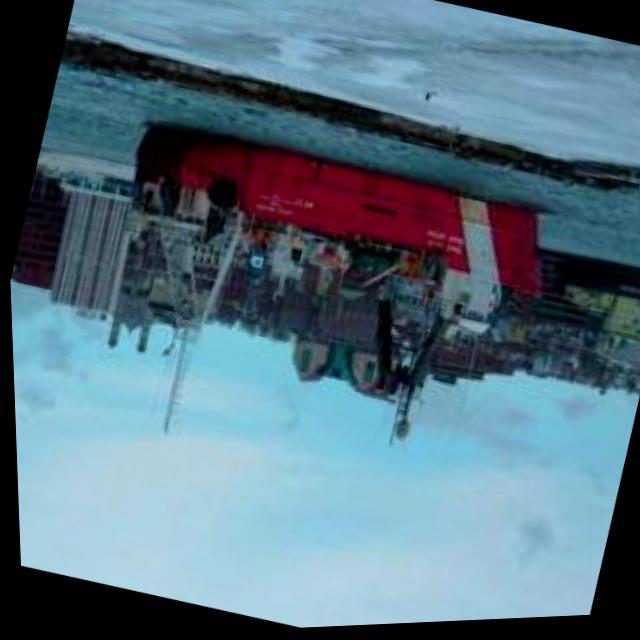ship2: (131, 127, 539, 444)
